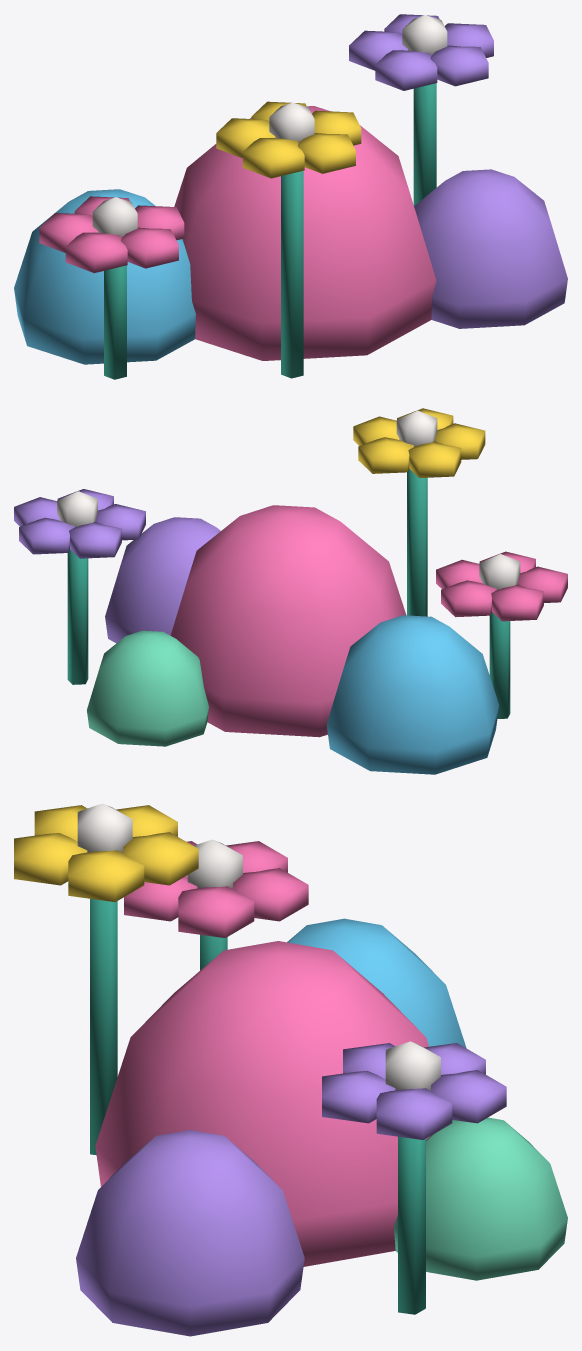
File: candy_garden.glb
The picture shows the model from 3 angles, top to bottom: view 1: azimuth 30°, elevation 25°; view 2: azimuth 150°, elevation 25°; view 3: azimuth 270°, elevation 25°; orthographic projection. The views are drawn at different scales.
Visible parts, largest first — view 1: C_Garden__C_pink_2, C_Garden__C_lilac_2, C_Garden__C_sky_2, C_Garden__C_mint_5, C_Garden__C_yel_2, C_Garden__C_white_5; view 2: C_Garden__C_pink_2, C_Garden__C_sky_2, C_Garden__C_lilac_2, C_Garden__C_mint_2, C_Garden__C_mint_5, C_Garden__C_yel_2, C_Garden__C_white_5; view 3: C_Garden__C_pink_2, C_Garden__C_lilac_2, C_Garden__C_mint_2, C_Garden__C_mint_5, C_Garden__C_yel_2, C_Garden__C_sky_2, C_Garden__C_white_5.
Part boxes in pixels (left/top/right/bottom): C_Garden__C_pink_2: left=39, top=106, right=436, bottom=360; C_Garden__C_lilac_2: left=349, top=14, right=567, bottom=328; C_Garden__C_sky_2: left=14, top=189, right=195, bottom=364; C_Garden__C_mint_5: left=104, top=83, right=436, bottom=379; C_Garden__C_yel_2: left=216, top=101, right=361, bottom=178; C_Garden__C_white_5: left=92, top=15, right=447, bottom=237; C_Garden__C_pink_2: left=170, top=505, right=567, bottom=737; C_Garden__C_sky_2: left=326, top=615, right=499, bottom=774; C_Garden__C_lilac_2: left=14, top=489, right=220, bottom=643; C_Garden__C_mint_2: left=87, top=630, right=208, bottom=746; C_Garden__C_mint_5: left=67, top=469, right=510, bottom=718; C_Garden__C_yel_2: left=353, top=408, right=485, bottom=477; C_Garden__C_white_5: left=57, top=410, right=520, bottom=590; C_Garden__C_pink_2: left=95, top=841, right=429, bottom=1266; C_Garden__C_lilac_2: left=76, top=1043, right=506, bottom=1336; C_Garden__C_mint_2: left=394, top=1117, right=567, bottom=1280; C_Garden__C_mint_5: left=90, top=899, right=425, bottom=1314; C_Garden__C_yel_2: left=14, top=805, right=198, bottom=901; C_Garden__C_sky_2: left=287, top=918, right=466, bottom=1048; C_Garden__C_white_5: left=77, top=803, right=440, bottom=1090.
Bounding box in the file's own units: 1.72 × 0.87 × 1.26.
